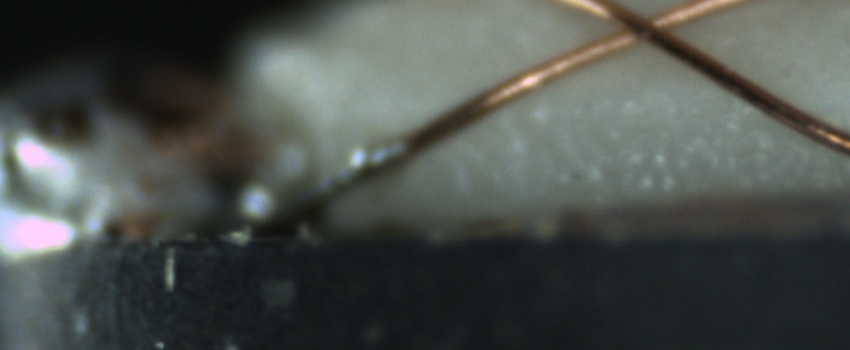CL: (599, 2, 690, 54)
TS: (263, 140, 409, 232)
TTCW: (289, 91, 484, 218)
